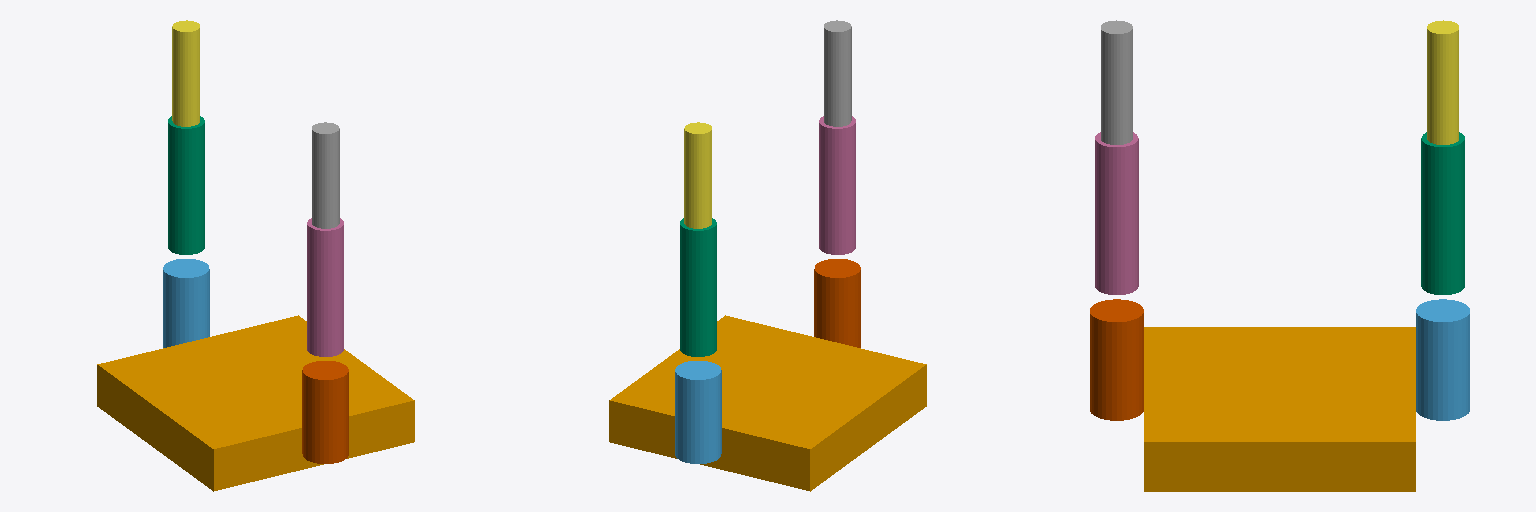
The robot description file, URDF, robot "dual_arm_robot":
<?xml version="1.0"?>
<!-- 占位符 URDF 文件 - 双臂机器人示例 -->
<robot name="dual_arm_robot">
  
  <!-- Base Link -->
  <link name="base_link">
    <visual>
      <geometry>
        <box size="0.5 0.5 0.1"/>
      </geometry>
    </visual>
  </link>

  <!-- Left Arm -->
  <link name="left_shoulder">
    <visual>
      <geometry>
        <cylinder length="0.2" radius="0.05"/>
      </geometry>
    </visual>
  </link>

  <joint name="left_shoulder_joint" type="revolute">
    <parent link="base_link"/>
    <child link="left_shoulder"/>
    <origin xyz="0 0.3 0.1" rpy="0 0 0"/>
    <axis xyz="0 0 1"/>
    <limit lower="-3.14" upper="3.14" effort="100" velocity="1.0"/>
  </joint>

  <link name="left_upper_arm">
    <visual>
      <geometry>
        <cylinder length="0.3" radius="0.04"/>
      </geometry>
    </visual>
  </link>

  <joint name="left_elbow_joint" type="revolute">
    <parent link="left_shoulder"/>
    <child link="left_upper_arm"/>
    <origin xyz="0 0 0.3" rpy="0 0 0"/>
    <axis xyz="1 0 0"/>
    <limit lower="-2.0" upper="2.0" effort="80" velocity="1.0"/>
  </joint>

  <link name="left_forearm">
    <visual>
      <geometry>
        <cylinder length="0.25" radius="0.03"/>
      </geometry>
    </visual>
  </link>

  <joint name="left_wrist_joint" type="revolute">
    <parent link="left_upper_arm"/>
    <child link="left_forearm"/>
    <origin xyz="0 0 0.25" rpy="0 0 0"/>
    <axis xyz="0 1 0"/>
    <limit lower="-1.5" upper="1.5" effort="50" velocity="1.0"/>
  </joint>

  <link name="left_end_effector"/>

  <joint name="left_end_joint" type="fixed">
    <parent link="left_forearm"/>
    <child link="left_end_effector"/>
    <origin xyz="0 0 0.15" rpy="0 0 0"/>
  </joint>

  <!-- Right Arm (Mirror of Left Arm) -->
  <link name="right_shoulder">
    <visual>
      <geometry>
        <cylinder length="0.2" radius="0.05"/>
      </geometry>
    </visual>
  </link>

  <joint name="right_shoulder_joint" type="revolute">
    <parent link="base_link"/>
    <child link="right_shoulder"/>
    <origin xyz="0 -0.3 0.1" rpy="0 0 0"/>
    <axis xyz="0 0 1"/>
    <limit lower="-3.14" upper="3.14" effort="100" velocity="1.0"/>
  </joint>

  <link name="right_upper_arm">
    <visual>
      <geometry>
        <cylinder length="0.3" radius="0.04"/>
      </geometry>
    </visual>
  </link>

  <joint name="right_elbow_joint" type="revolute">
    <parent link="right_shoulder"/>
    <child link="right_upper_arm"/>
    <origin xyz="0 0 0.3" rpy="0 0 0"/>
    <axis xyz="1 0 0"/>
    <limit lower="-2.0" upper="2.0" effort="80" velocity="1.0"/>
  </joint>

  <link name="right_forearm">
    <visual>
      <geometry>
        <cylinder length="0.25" radius="0.03"/>
      </geometry>
    </visual>
  </link>

  <joint name="right_wrist_joint" type="revolute">
    <parent link="right_upper_arm"/>
    <child link="right_forearm"/>
    <origin xyz="0 0 0.25" rpy="0 0 0"/>
    <axis xyz="0 1 0"/>
    <limit lower="-1.5" upper="1.5" effort="50" velocity="1.0"/>
  </joint>

  <link name="right_end_effector"/>

  <joint name="right_end_joint" type="fixed">
    <parent link="right_forearm"/>
    <child link="right_end_effector"/>
    <origin xyz="0 0 0.15" rpy="0 0 0"/>
  </joint>

</robot>

--- Facts derived from the render (not from the file) ---
3 views of the same robot in one strip: view 1: azimuth 30°, elevation 25°; view 2: azimuth 150°, elevation 25°; view 3: azimuth 270°, elevation 25° (orthographic).
Model dual_arm_robot with 9 links and 8 joints (6 revolute, 2 fixed), rooted at base_link, posed all joints at 0.
Visible links, largest first — view 1: base_link, left_upper_arm, right_upper_arm, right_shoulder, left_shoulder, right_forearm, left_forearm; view 2: base_link, right_upper_arm, left_upper_arm, left_shoulder, right_shoulder, left_forearm, right_forearm; view 3: base_link, left_upper_arm, right_upper_arm, left_shoulder, right_shoulder, left_forearm, right_forearm.
Boxes of the visible links, x1,y1,x2,y2 form: base_link: (97,315,414,491); left_upper_arm: (168,116,204,254); right_upper_arm: (307,218,343,356); right_shoulder: (302,361,348,463); left_shoulder: (163,259,209,347); right_forearm: (312,122,339,228); left_forearm: (172,20,199,126); base_link: (609,315,926,491); right_upper_arm: (819,116,855,254); left_upper_arm: (680,218,716,356); left_shoulder: (675,361,721,463); right_shoulder: (814,259,860,347); left_forearm: (684,122,711,228); right_forearm: (824,20,851,126); base_link: (1144,327,1415,491); left_upper_arm: (1421,132,1464,294); right_upper_arm: (1095,132,1138,294); left_shoulder: (1416,299,1469,420); right_shoulder: (1090,299,1143,420); left_forearm: (1427,20,1458,144); right_forearm: (1101,20,1132,144).
Bounding box of the posed robot: 0.5 × 0.7 × 0.825 m (x, y, z).
Geometry: primitives only (box / cylinder / sphere), no mesh files.
